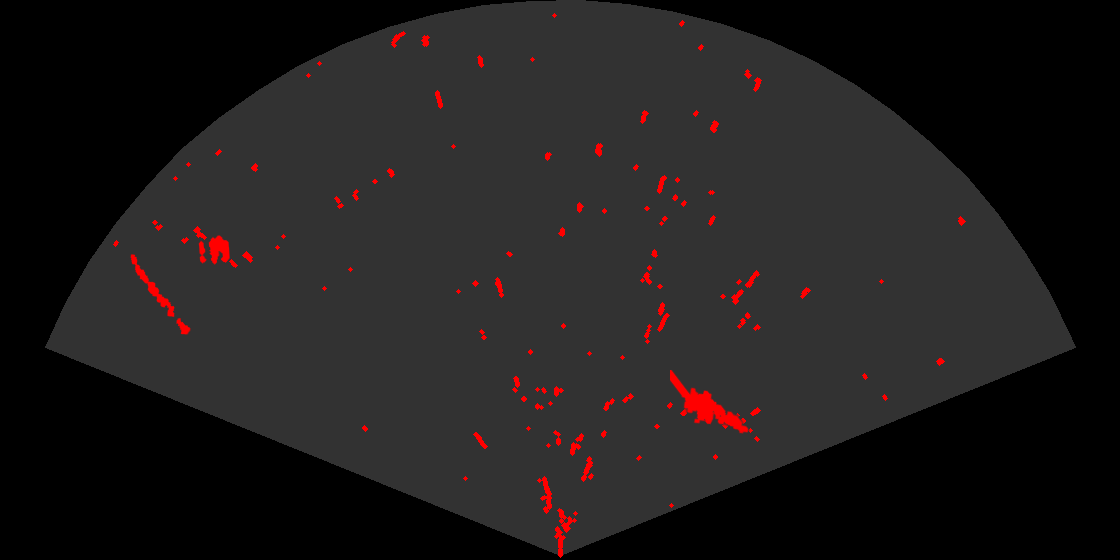ball: (197, 234, 231, 266)
chain: (129, 253, 192, 336)
frogman: (670, 370, 750, 435)
